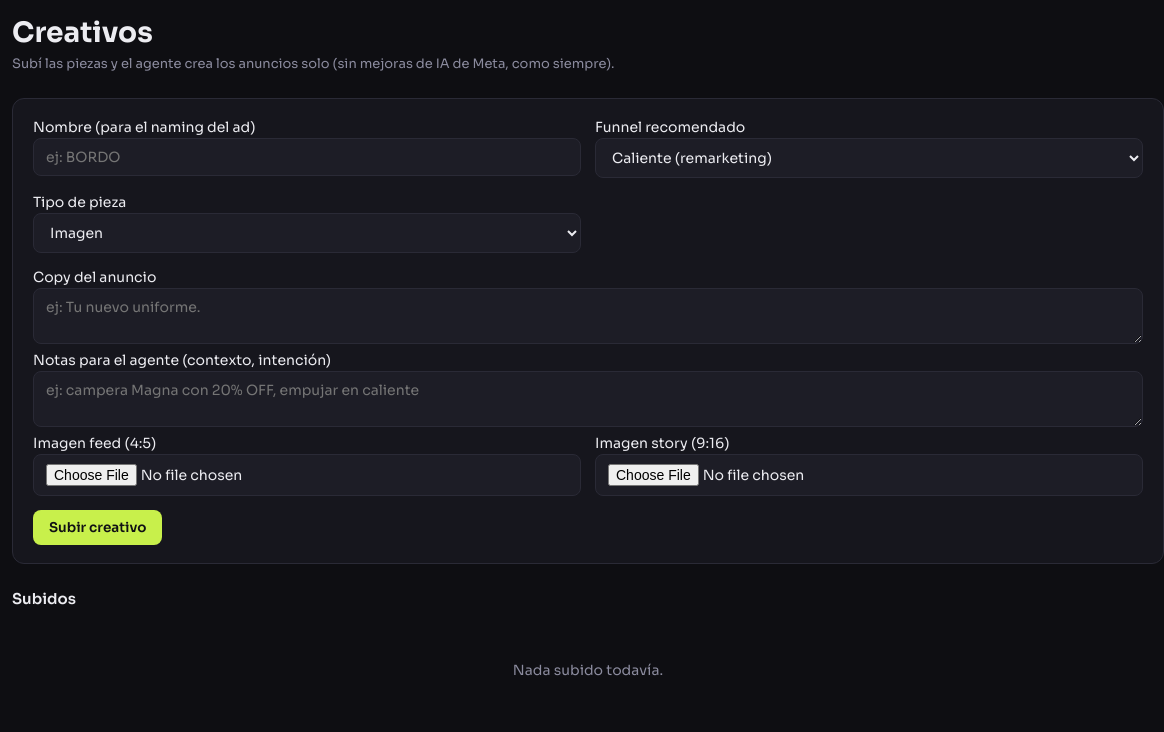
Test: Creativos — tipo de pieza › al elegir Video cambian los inputs de archivo
Check: the button "Subir creativo" is shown, box [33,510,162,544]
Select "Video" in the dropdown labelled "Tipo de pieza" at (307, 232), box [33,212,581,252]
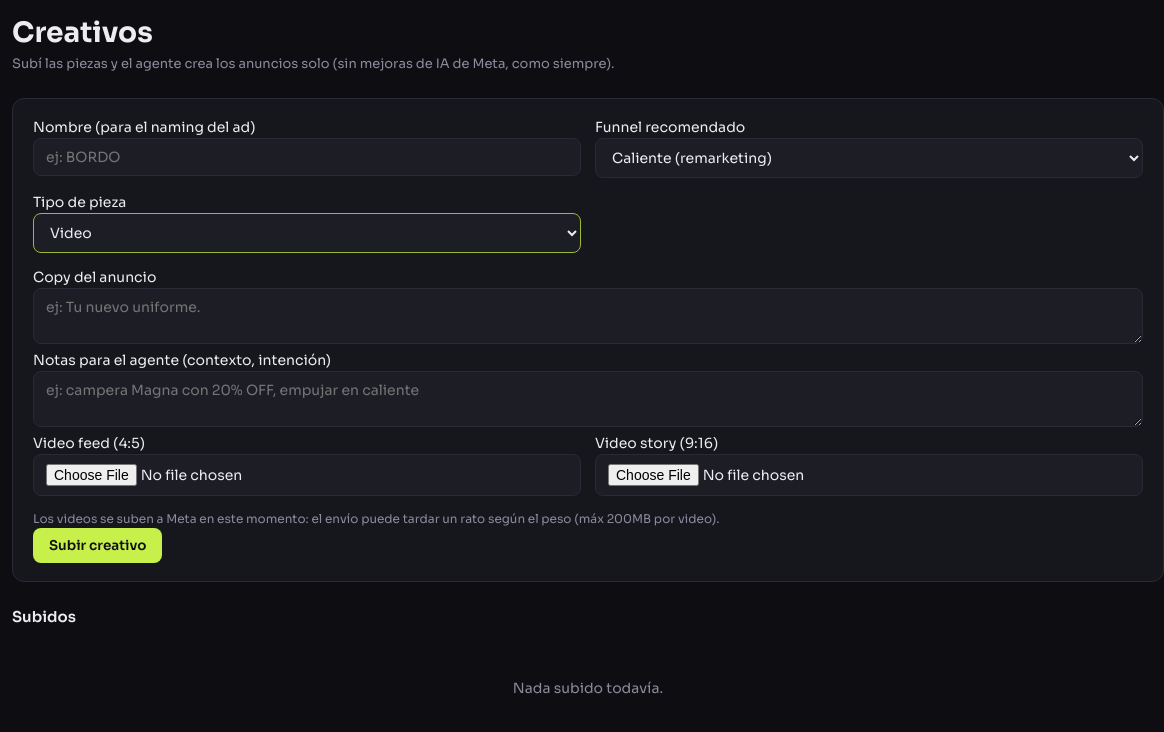
Check: the text "tarda" is shown, box [33,510,719,526]
